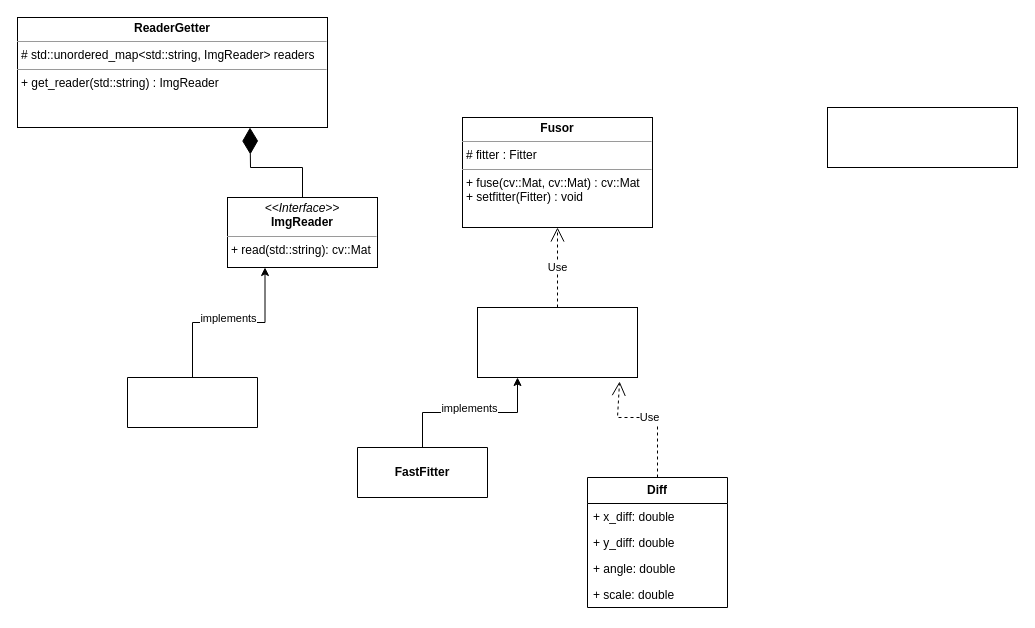
Some shapes in this 1035 by 628 pixel diagram are drawn without their labels. The centre of each missing label's shape, as x and y in pixels:
<<Interface>> Fitter + fit (cv::Mat, cv::Mat) : Diff: the point at 557,342
Exporter + export(cv::Mat, std::string) : void: the point at 922,137
RawImgReader: the point at 192,402
